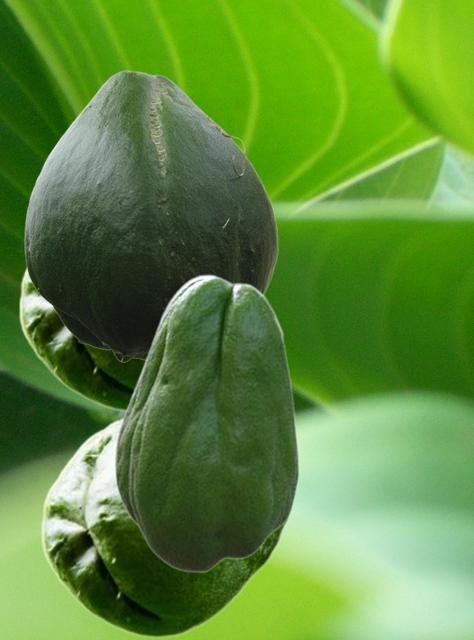sayote: (24, 70, 277, 363), (40, 415, 289, 637), (114, 274, 299, 572), (18, 265, 143, 411)
